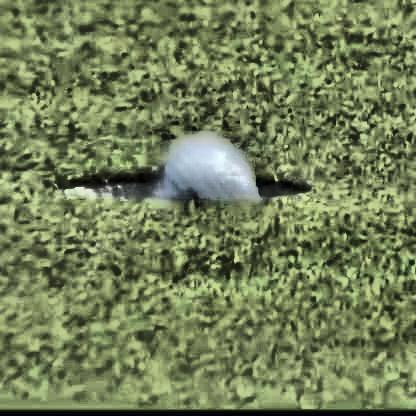golfball: (153, 149, 261, 219)
